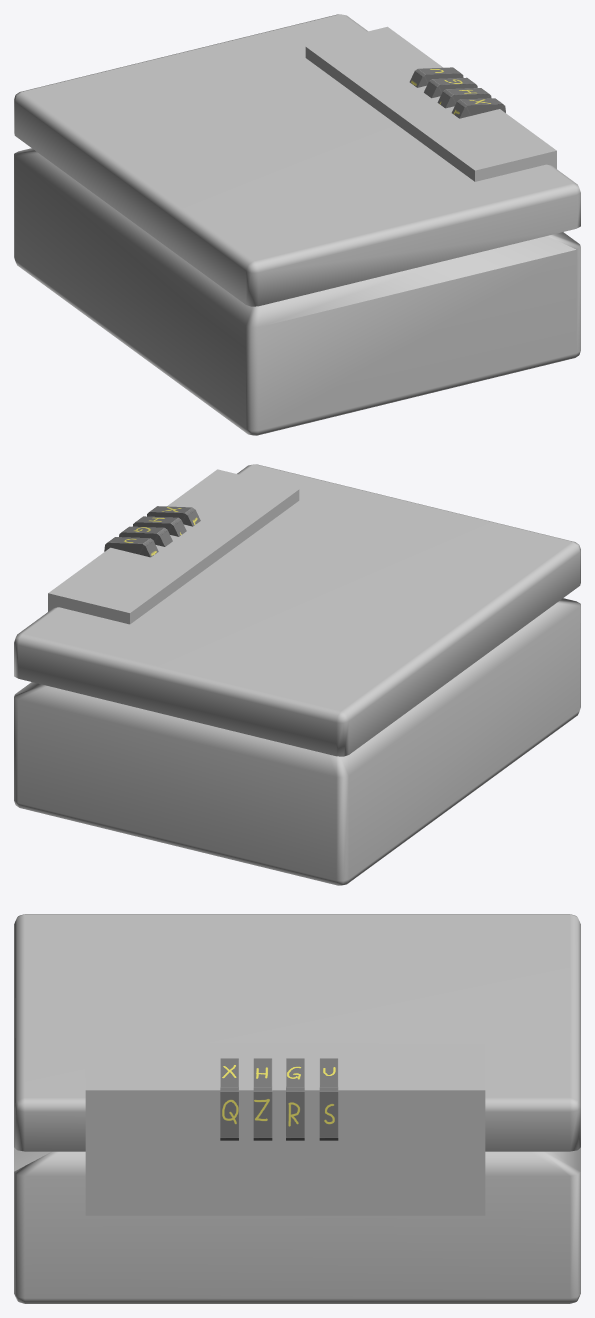
Rendered from Blenda_box_lås.fbx.
3 views of the same model, one above another, from view 1: azimuth 30°, elevation 25°; view 2: azimuth 150°, elevation 25°; view 3: azimuth 270°, elevation 25° (orthographic). The views are drawn at different scales.
Visible parts, largest first — view 1: Låda, Låda_lås, Lås_5, Lås_4, Lås_2, Lås_3; view 2: Låda, Låda_lås, Lås_4, Lås_3, Lås_5, Lås_2; view 3: Låda, Låda_lås, Lås_4, Lås_2, Lås_3, Lås_5.
Part boxes in pixels (x1,y1,x2,y2): Låda: [14, 14, 580, 435]; Låda_lås: [305, 26, 556, 181]; Lås_5: [451, 98, 505, 118]; Lås_4: [409, 67, 463, 87]; Lås_2: [437, 88, 491, 108]; Lås_3: [424, 77, 477, 98]; Låda: [14, 464, 580, 885]; Låda_lås: [48, 469, 299, 624]; Lås_4: [104, 537, 158, 557]; Lås_3: [119, 526, 172, 546]; Lås_5: [147, 506, 200, 526]; Lås_2: [133, 516, 186, 536]; Låda: [14, 914, 580, 1303]; Låda_lås: [85, 1043, 485, 1215]; Lås_4: [319, 1058, 338, 1140]; Lås_2: [253, 1058, 272, 1140]; Lås_3: [286, 1058, 304, 1140]; Lås_5: [220, 1058, 238, 1140].
Bounding box in the file's own units: 4.23 × 2.3 × 5.08.
